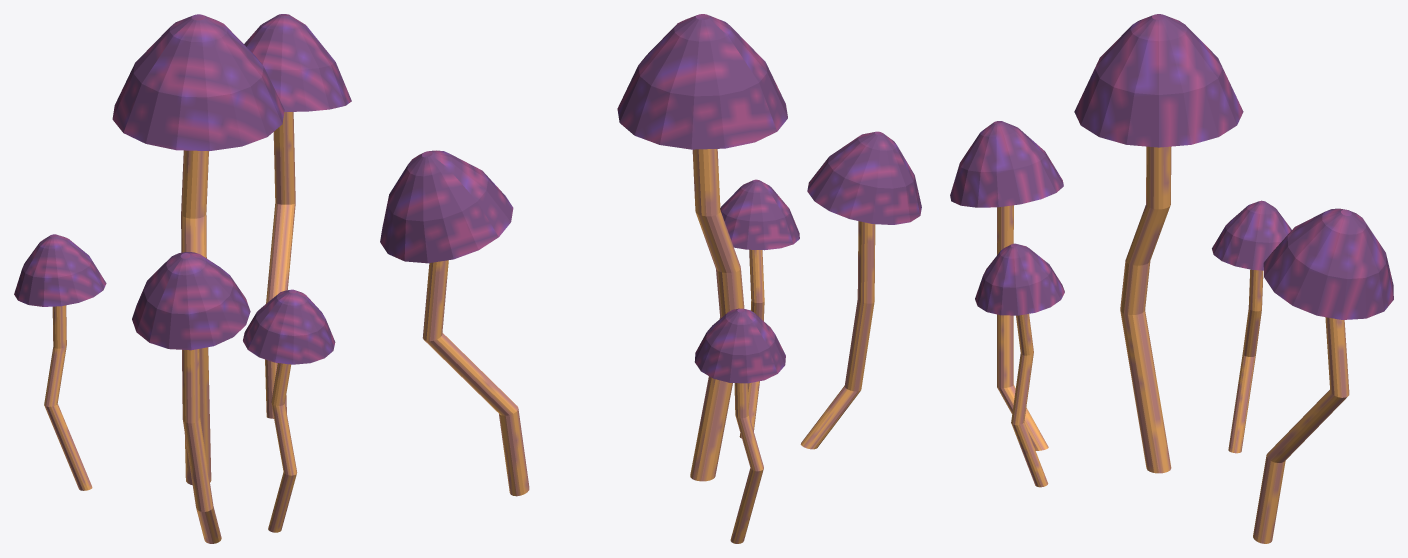
The model's file is Mushroom_Test1.obj.
3 views of the same model, side by side, from view 1: azimuth 30°, elevation 25°; view 2: azimuth 150°, elevation 25°; view 3: azimuth 270°, elevation 25° (orthographic). The views are drawn at different scales.
Parts seen in each view (by area): view 1: Kahlkopf_Cylinder.001; view 2: Kahlkopf_Cylinder.001; view 3: Kahlkopf_Cylinder.001.
Part boxes in pixels (x1,y1,x2,y2): Kahlkopf_Cylinder.001: (14,14,351,543); Kahlkopf_Cylinder.001: (380,14,921,543); Kahlkopf_Cylinder.001: (950,14,1393,543).
Size of the model in its own units: 1.67 by 2.1 by 1.8.
